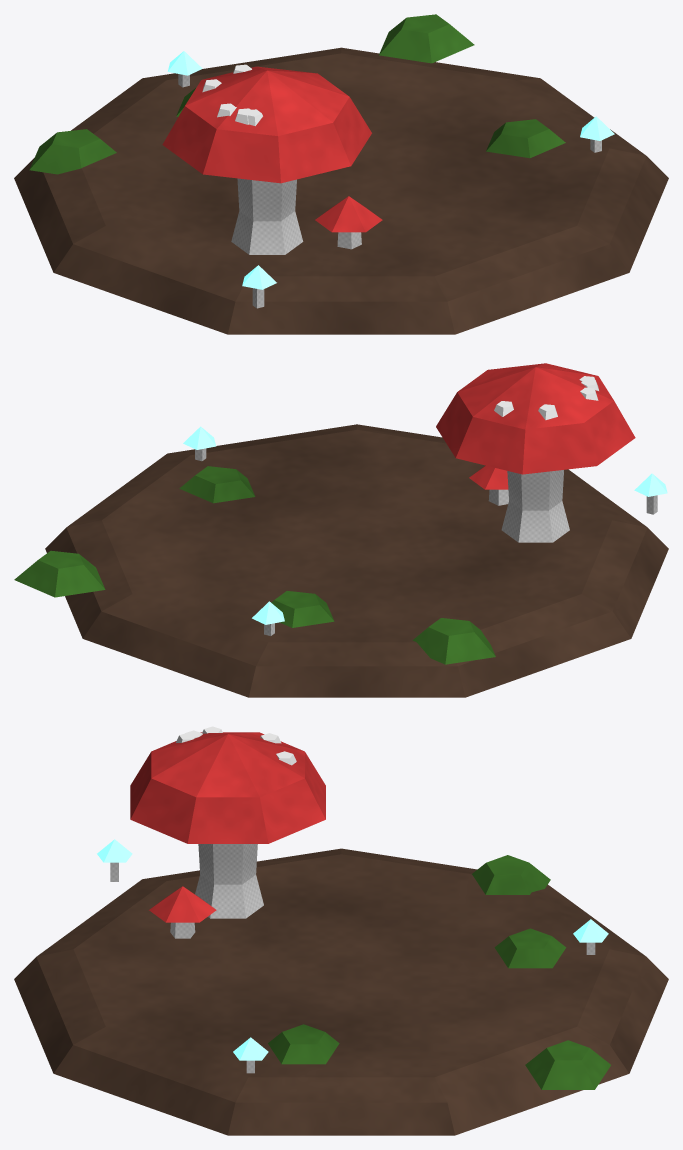
File: mushrooms_1.glb
3 renders of one model, top to bottom at view 1: azimuth 30°, elevation 25°; view 2: azimuth 150°, elevation 25°; view 3: azimuth 270°, elevation 25°, orthographic. The views are drawn at different scales.
Parts seen in each view (by area): view 1: base_mesh; view 2: base_mesh; view 3: base_mesh.
Boxes of the visible parts, x1,y1,x2,y2 form: base_mesh: [14, 14, 668, 334]; base_mesh: [14, 363, 668, 697]; base_mesh: [14, 726, 668, 1135].
Size of the model in its own units: 0.8535 by 0.3 by 0.8666.
6 materials, 4 textured.
